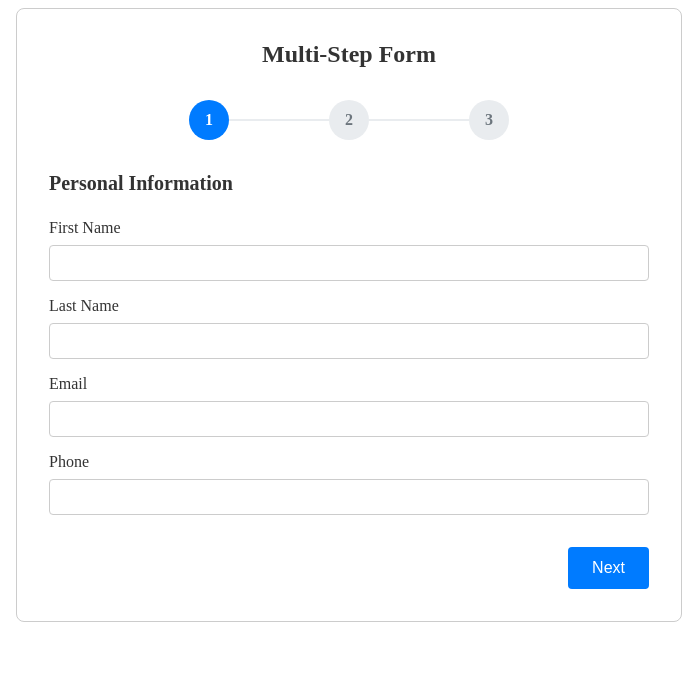
Test: MultiStepForm Component › Step 1 - Personal Information › should show validation error when last name is empty
The image size is (699, 699).
Type "John" into the field with test id "input-firstName" at point(349, 263), box top-left (49, 245), bottom-right (649, 281)
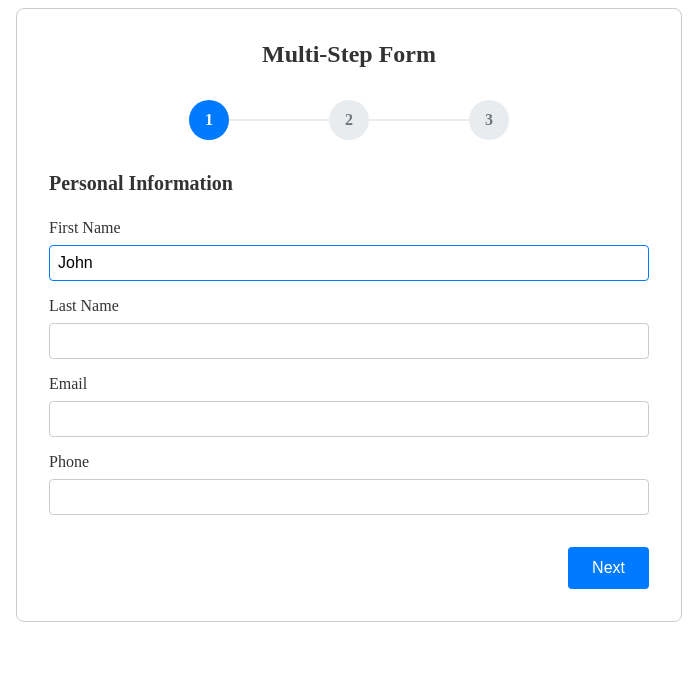
Click the button with test id "form-next" at point(609, 568), box top-left (568, 547), bottom-right (649, 589)
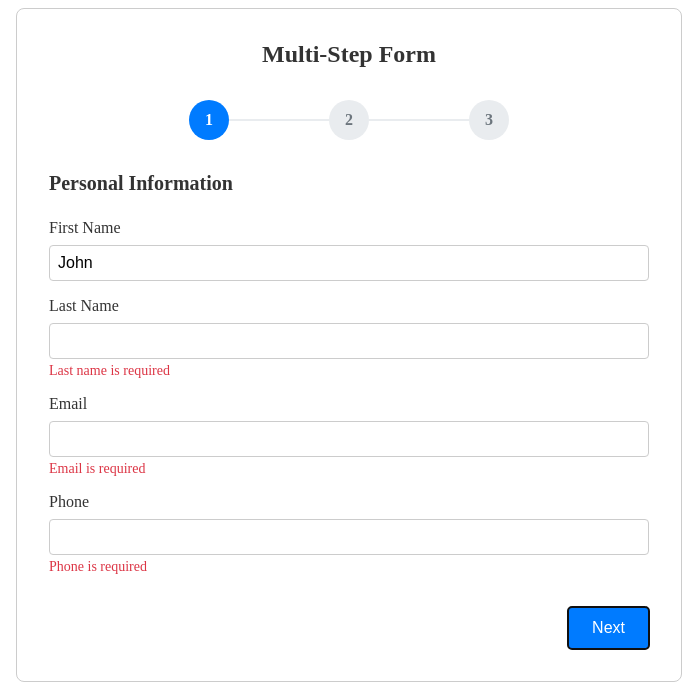
Check: the text with test id "error-lastName" reads "Last name is required", box top-left (49, 363), bottom-right (170, 378)
